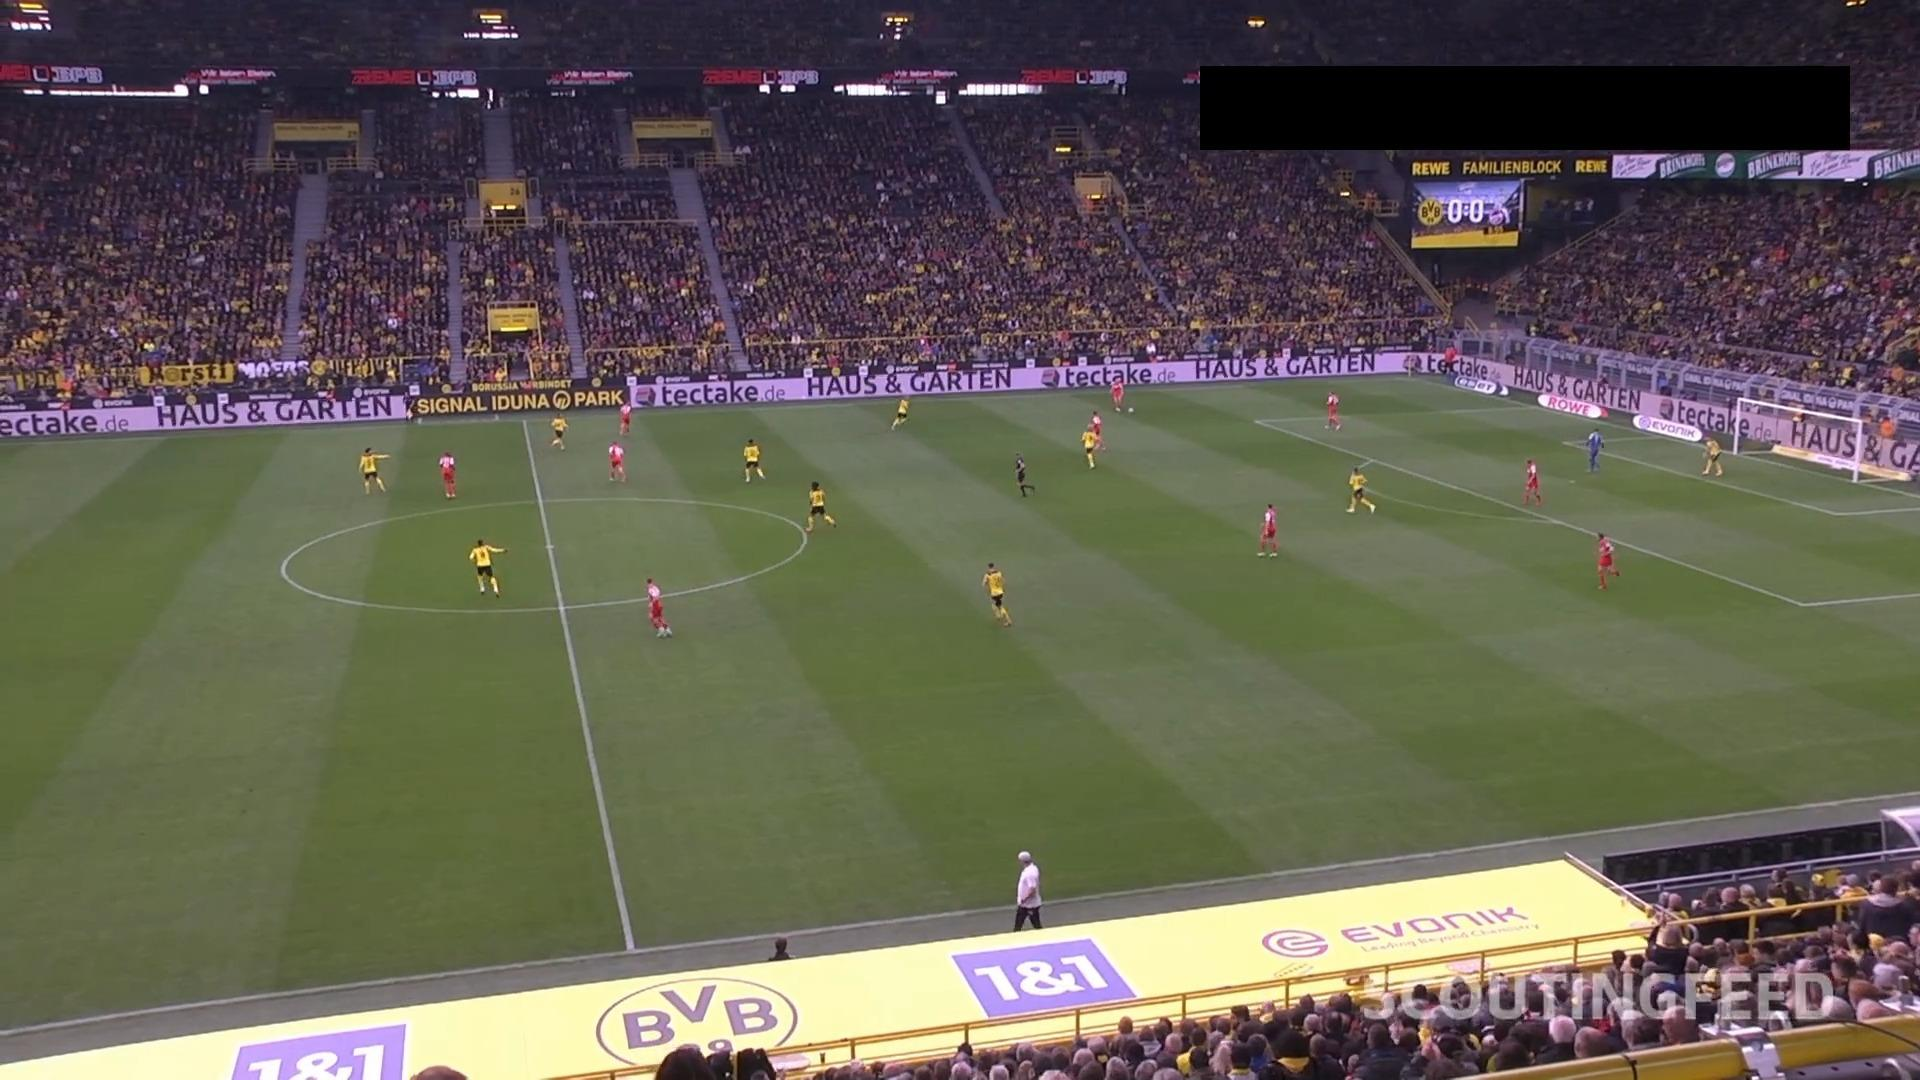coach: (1012, 850, 1043, 931)
player: (468, 538, 507, 597), (981, 561, 1011, 626), (644, 575, 672, 638), (804, 480, 835, 534), (357, 446, 388, 495), (1345, 465, 1375, 513), (1594, 530, 1618, 590), (1256, 502, 1279, 557), (741, 437, 765, 483), (1699, 436, 1723, 476), (1584, 426, 1604, 472), (437, 451, 456, 498), (1522, 458, 1541, 504), (606, 441, 626, 482), (1080, 425, 1098, 469), (1324, 390, 1342, 431), (548, 414, 568, 450), (890, 396, 909, 430), (1087, 409, 1103, 449), (1109, 374, 1125, 412), (617, 399, 632, 436)
referee: (1013, 451, 1034, 497), (1440, 342, 1459, 374), (403, 397, 422, 424), (1877, 412, 1896, 439)
